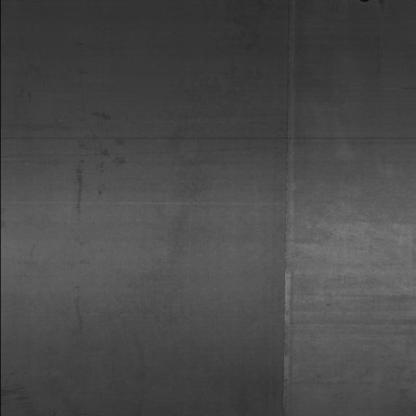welding_line: (276, 0, 306, 416)
